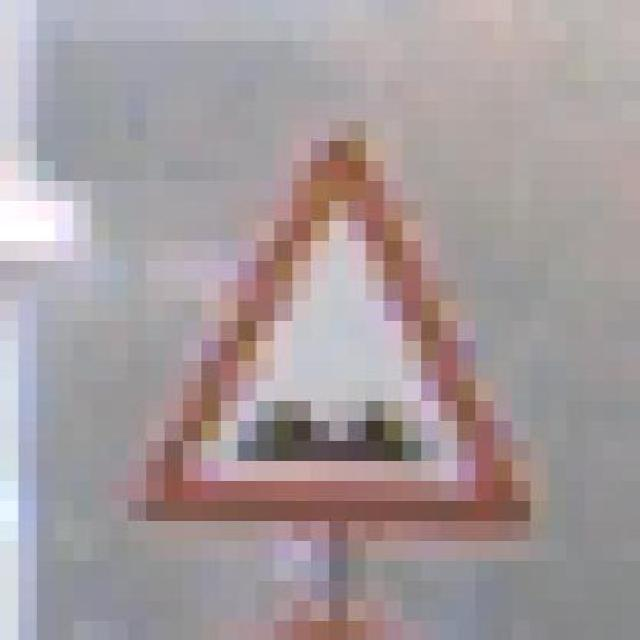Uneven Road: (109, 120, 531, 540)
